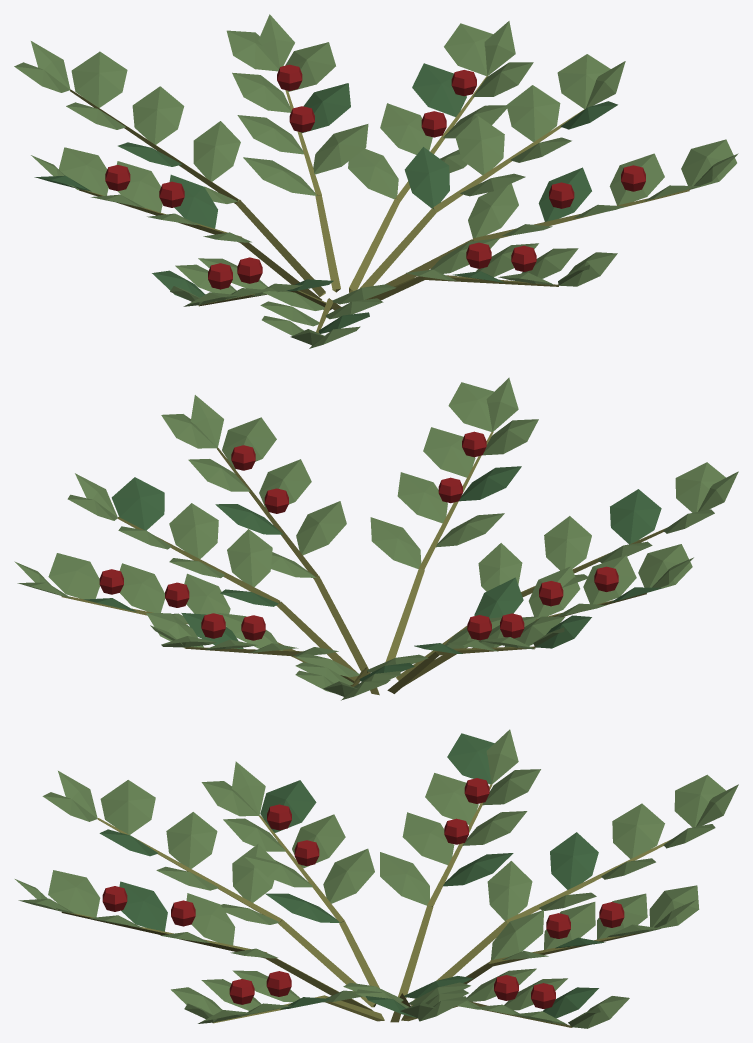
The model's file is w9b-lookout-bearberry.glb.
3 views of the same model, one above another, from view 1: azimuth 30°, elevation 25°; view 2: azimuth 150°, elevation 25°; view 3: azimuth 270°, elevation 25° (orthographic). The views are drawn at different scales.
Parts seen in each view (by area): view 1: Rock lookout trailing bearberry; view 2: Rock lookout trailing bearberry; view 3: Rock lookout trailing bearberry.
Boxes of the visible parts, x1,y1,x2,y2 form: Rock lookout trailing bearberry: (14,14,738,348); Rock lookout trailing bearberry: (14,377,738,700); Rock lookout trailing bearberry: (15,729,738,1028).
Bounding box in the file's own units: 1.02 × 0.2917 × 1.16.
